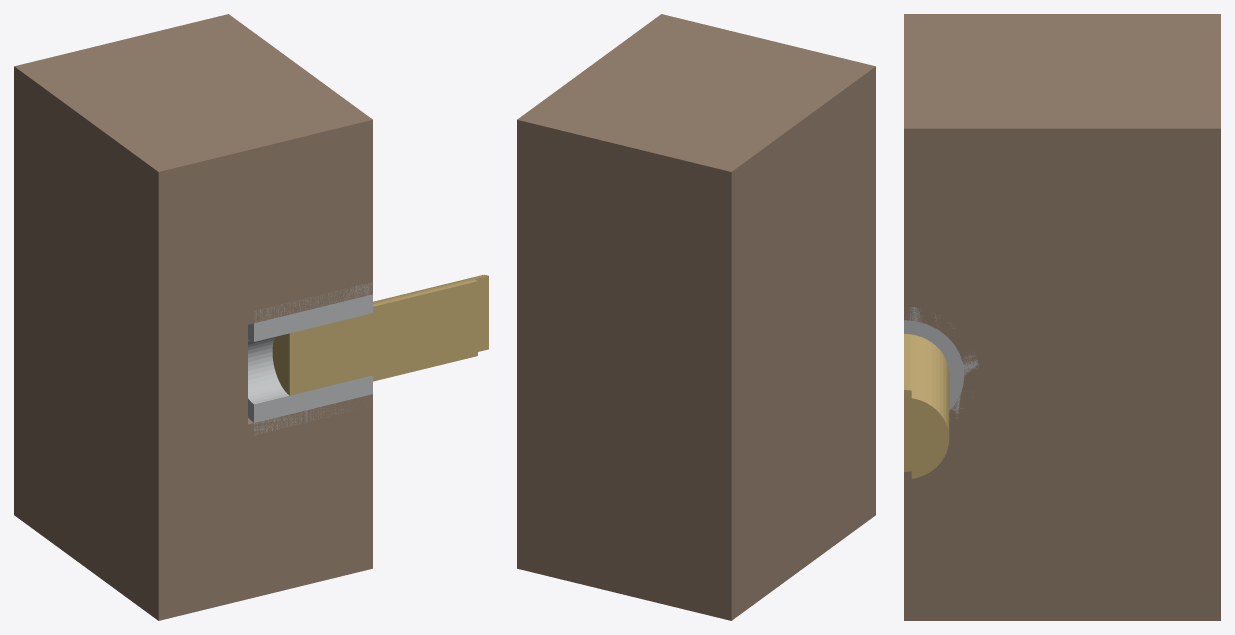
File: axis-l-section.glb
3 views of the same model, side by side, from view 1: azimuth 30°, elevation 25°; view 2: azimuth 150°, elevation 25°; view 3: azimuth 270°, elevation 25° (orthographic). The views are drawn at different scales.
Parts seen in each view (by area): view 1: Center-18, Pin-L-1, Axle-insert-L-1-M5x10; view 2: Center-18; view 3: Center-18, Pin-L-1, Axle-insert-L-1-M5x10.
Boxes of the visible parts, <box> form: Center-18: <box>14,14,372,620</box>; Pin-L-1: <box>272,274,488,395</box>; Axle-insert-L-1-M5x10: <box>248,282,372,435</box>; Center-18: <box>517,14,875,620</box>; Center-18: <box>904,14,1220,620</box>; Pin-L-1: <box>904,334,949,478</box>; Axle-insert-L-1-M5x10: <box>904,307,978,419</box>.
Size of the model in its own units: 0.028 by 0.036 by 0.021.
